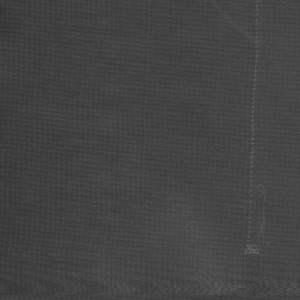Damage: (204, 1, 300, 261)
